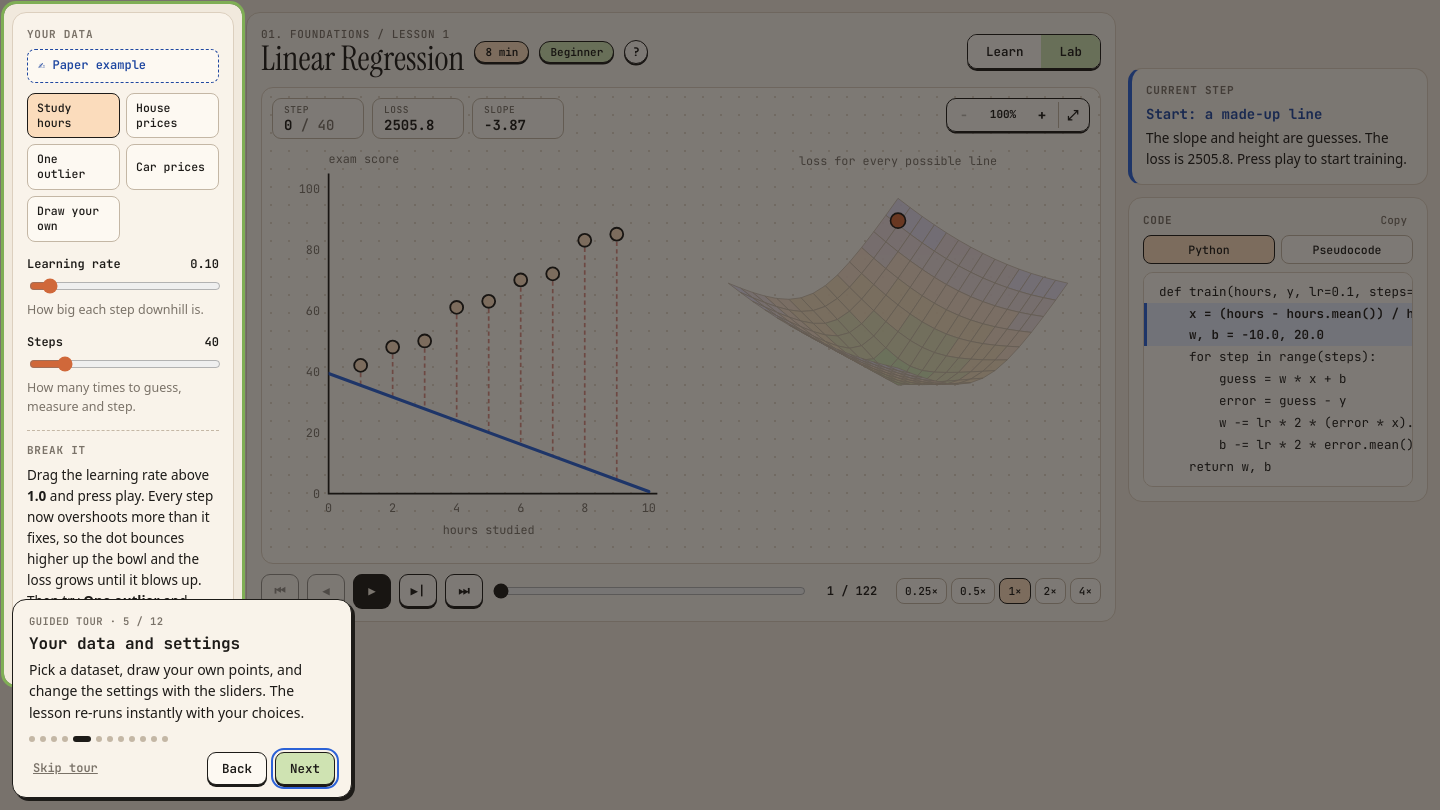
Test: guided tour in the lesson › shows Solve it by hand, then the Lab's Paper example button, after Break it
Earlier steps of the test are not shown.
Click the button "Next" at {"x": 305, "y": 768}, box [275,752,335,785]
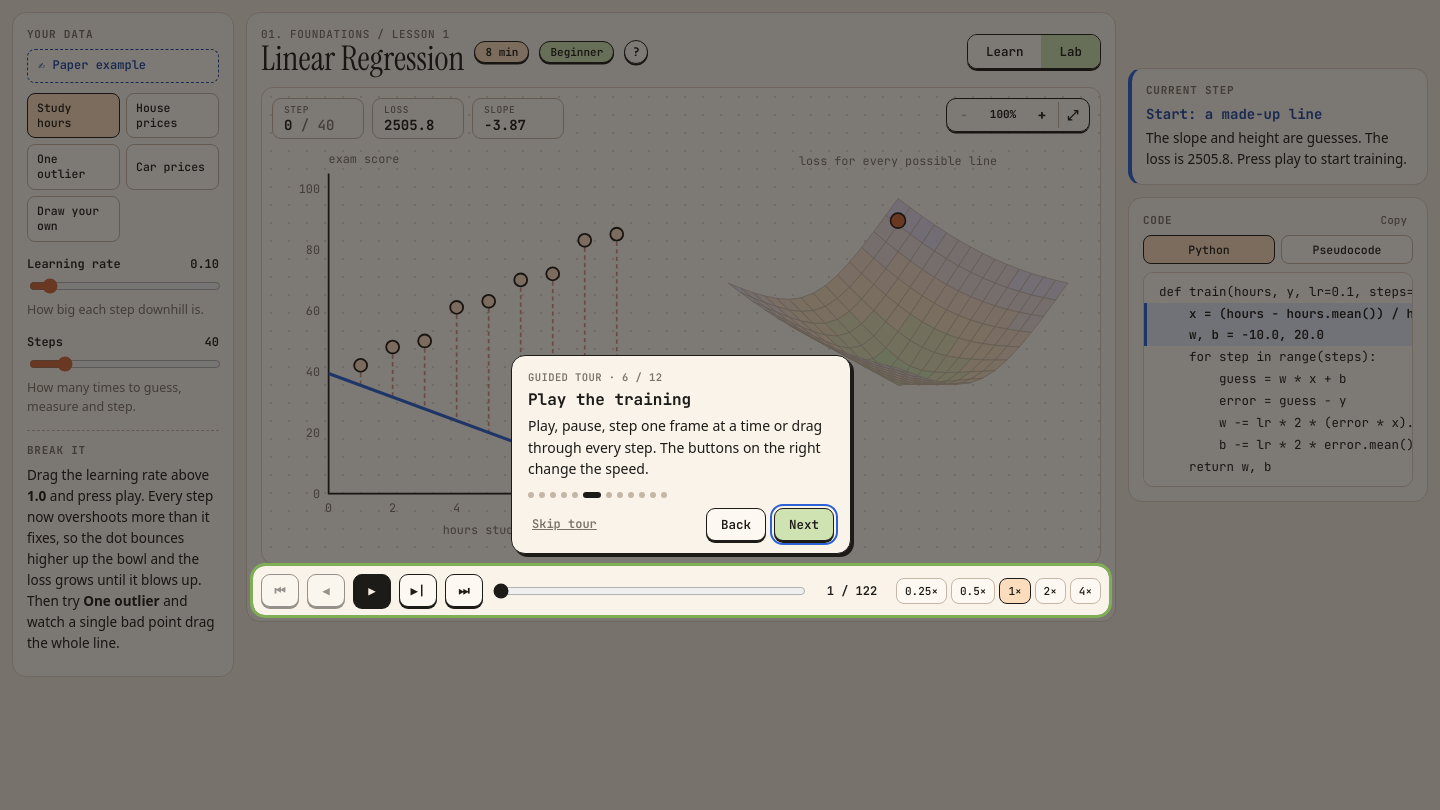
Click the button "Next" at {"x": 804, "y": 524}, box [774,508,834,541]
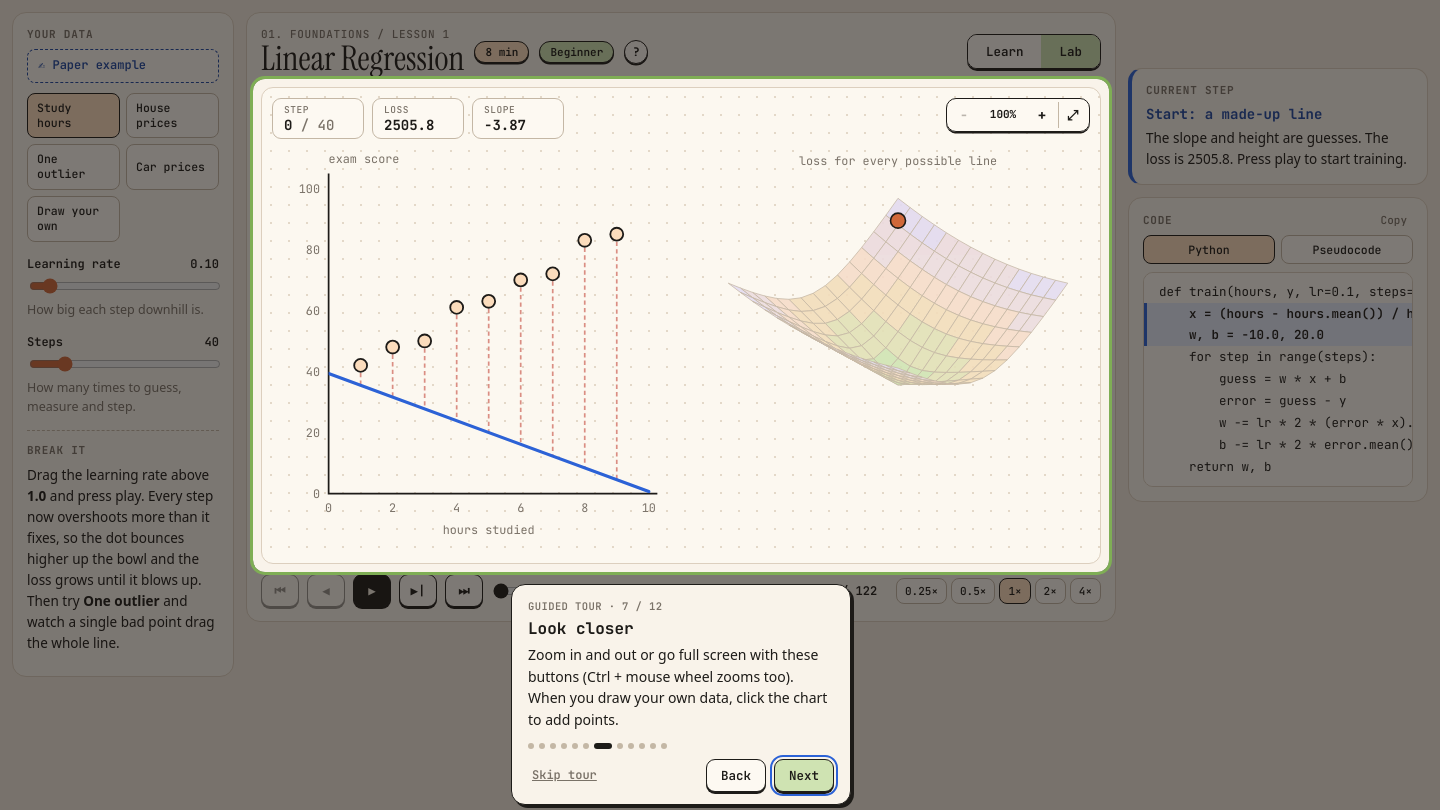
Click the button "Next" at {"x": 804, "y": 775}, box [774,759,834,792]
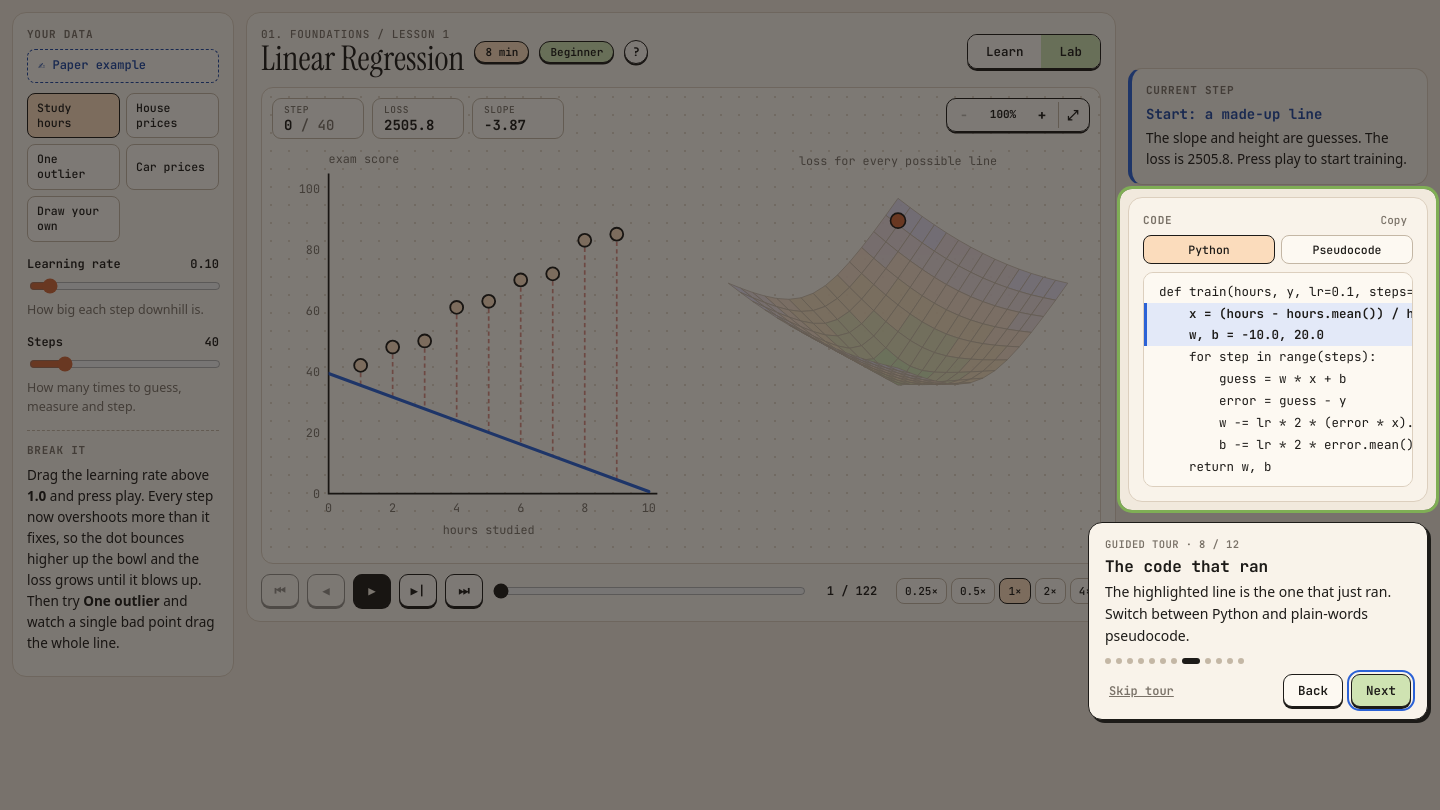
Click the button "Next" at {"x": 1381, "y": 691}, box [1351,674,1411,708]
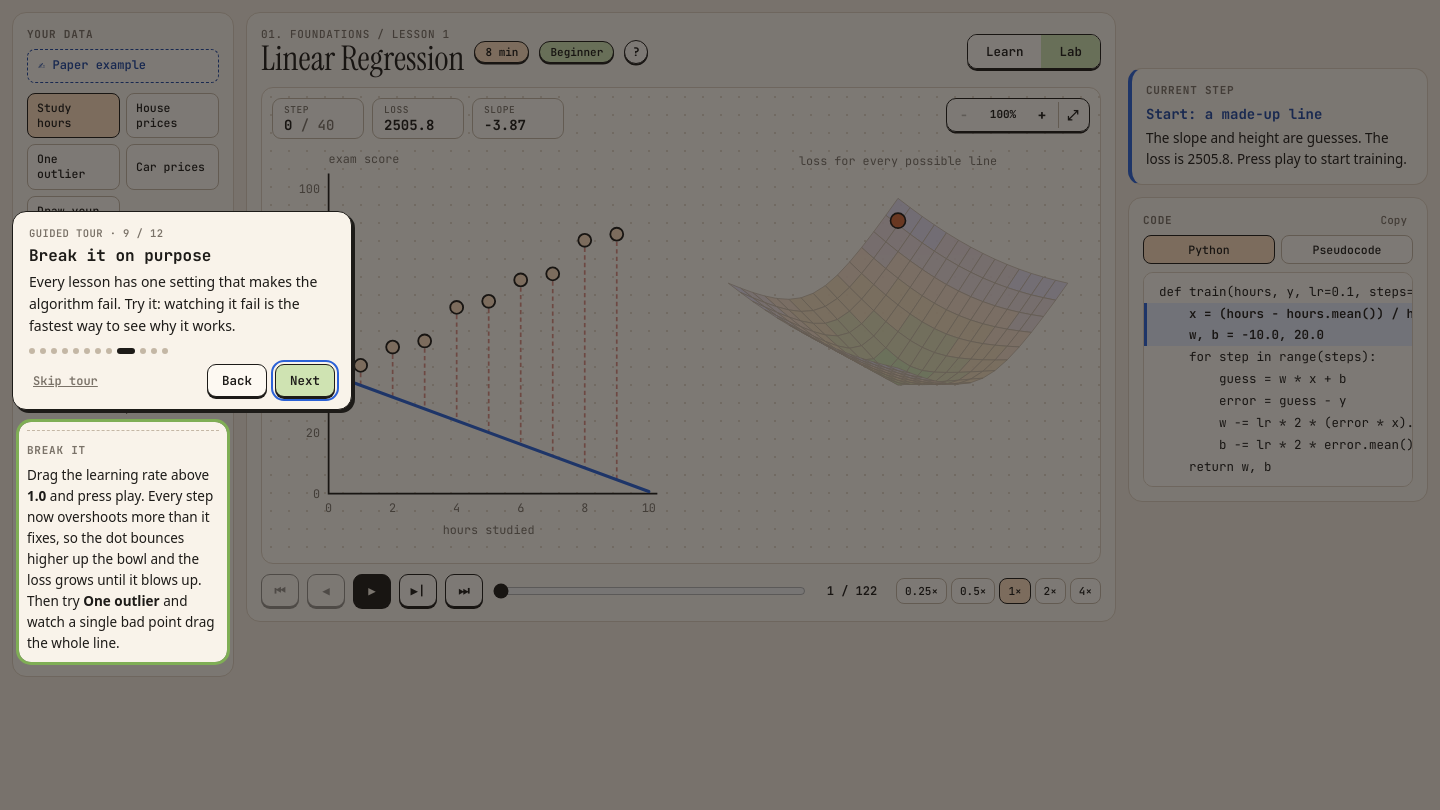
Click the button "Next" at {"x": 305, "y": 381}, box [275,364,335,397]
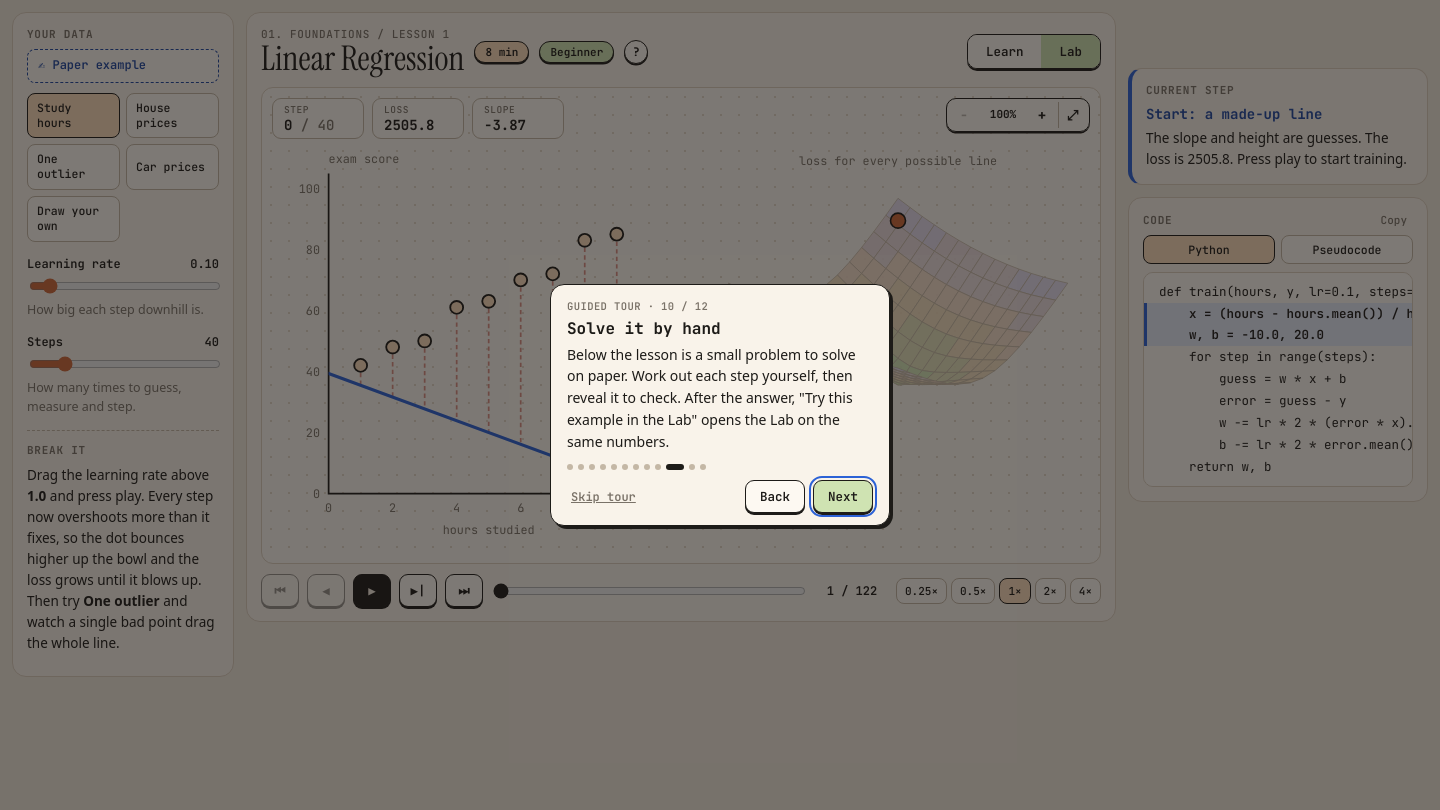
expect the dialog "Solve it by hand" is shown: met, box [550,284,890,526]
Click the button "Next" at {"x": 843, "y": 497}, box [813,480,873,513]
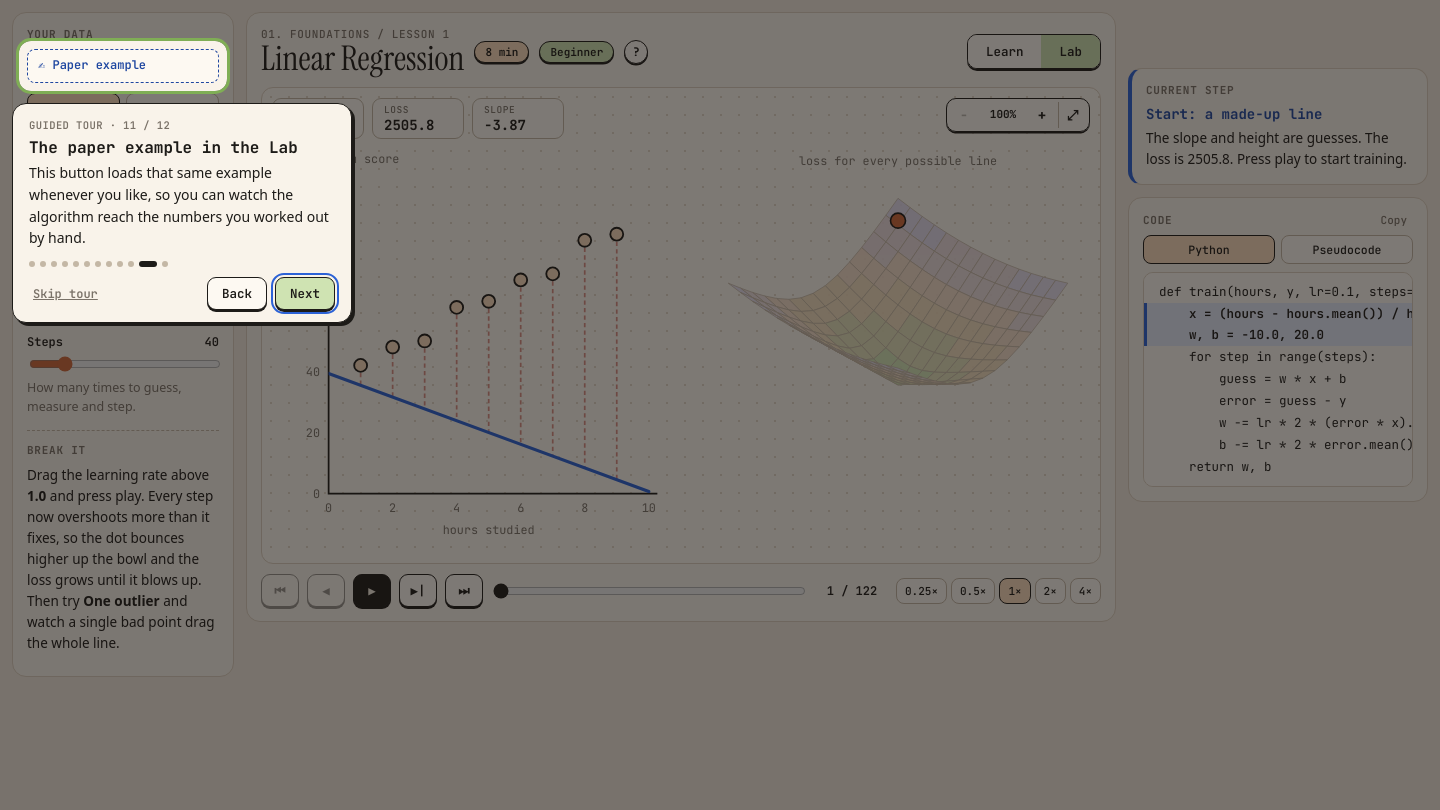
expect the button "✍ Paper example" is shown: met, box [27,49,219,83]
expect the dialog "The paper example in the Lab" is shown: met, box [12,103,352,323]
